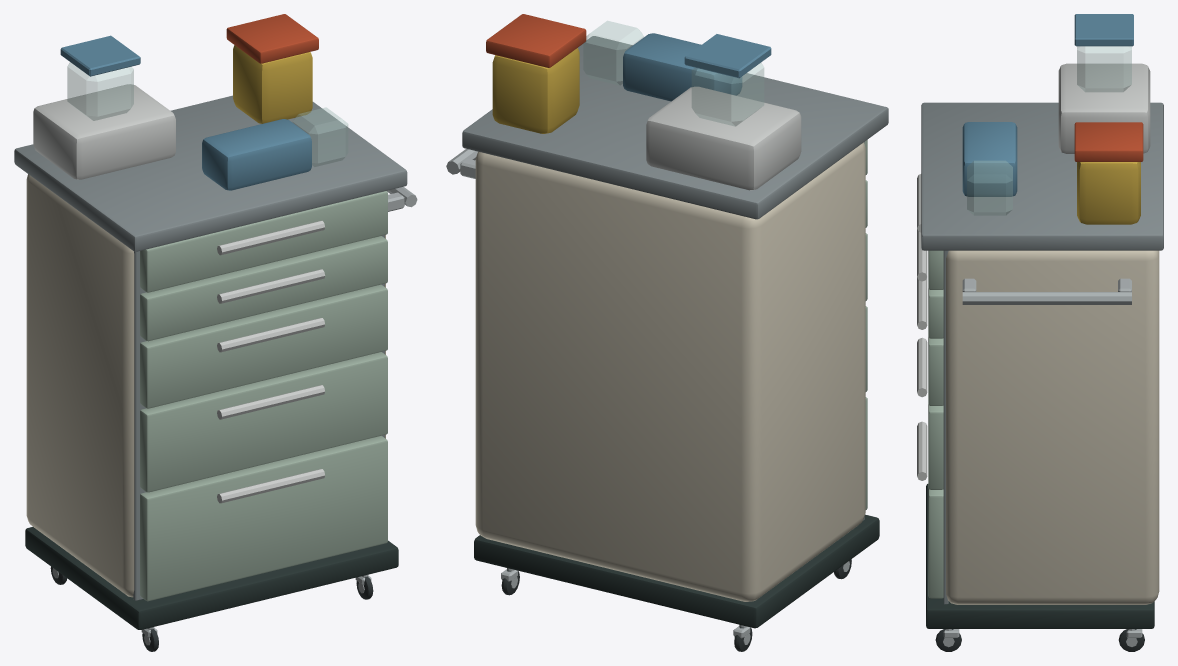
File: treatment-cart.glb
3 views of the same model, side by side, from view 1: azimuth 30°, elevation 25°; view 2: azimuth 150°, elevation 25°; view 3: azimuth 270°, elevation 25° (orthographic). The views are drawn at different scales.
Visible parts, largest first — view 1: treatment-cart; view 2: treatment-cart; view 3: treatment-cart.
Boxes of the visible parts, x1,y1,x2,y2 form: treatment-cart: (14,14,417,651); treatment-cart: (446,14,888,651); treatment-cart: (917,14,1163,651).
Size of the model in its own units: 0.765 by 1.29 by 0.5392.
